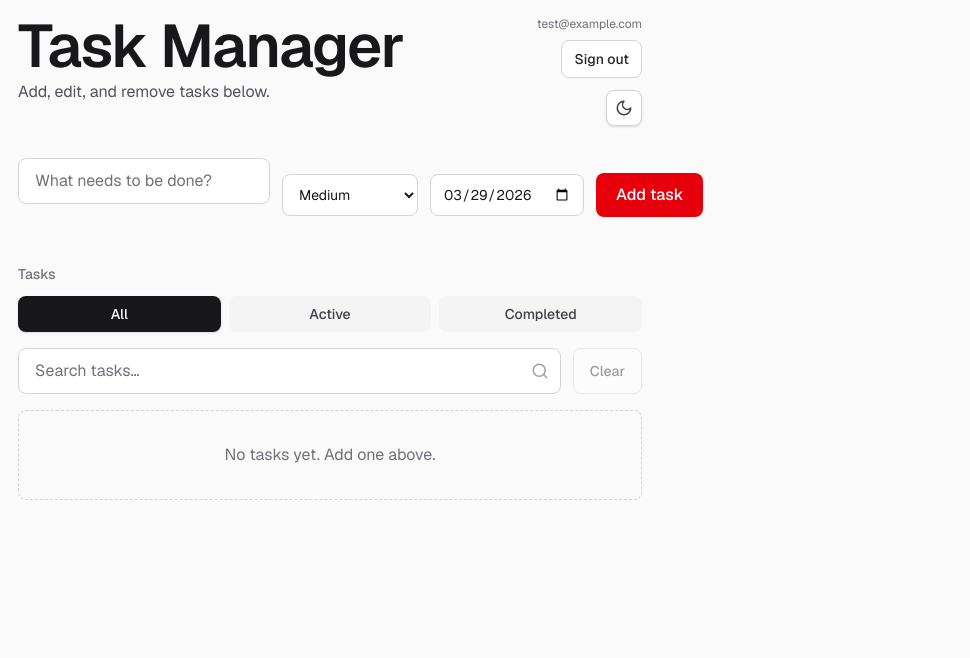
Test case: Home task manager › shows an error toast when creating a task fails
Expected: the heading "Task Manager" is shown, [18,16,403,76]
Step 1. Type "Will not persist" into the field named "Task title" → (144, 181), box [18,158,270,204]
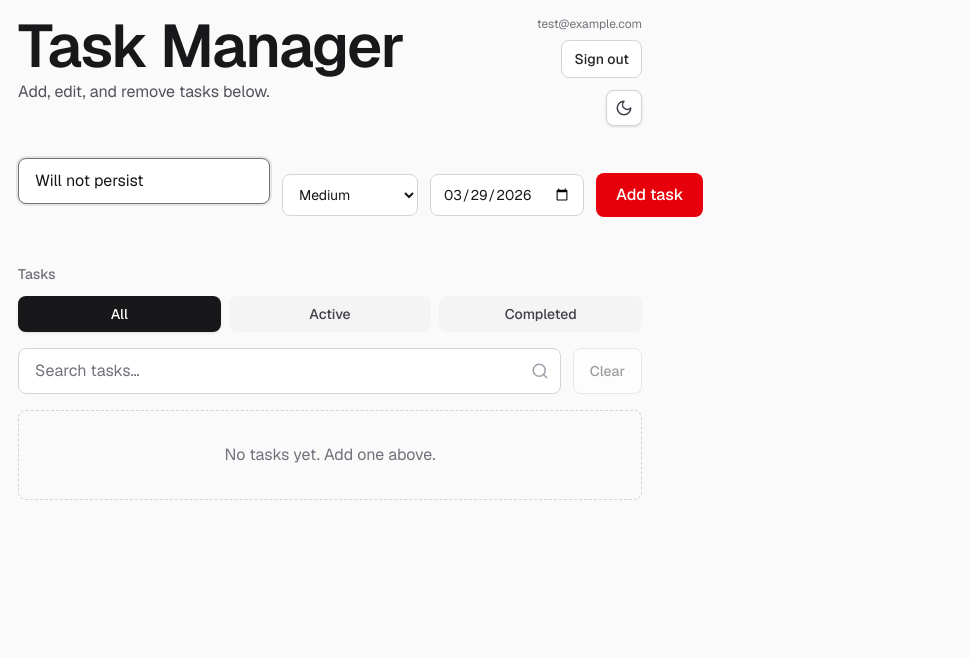
Step 2. Click the button "Add task" → (650, 195), box [596,173,703,217]
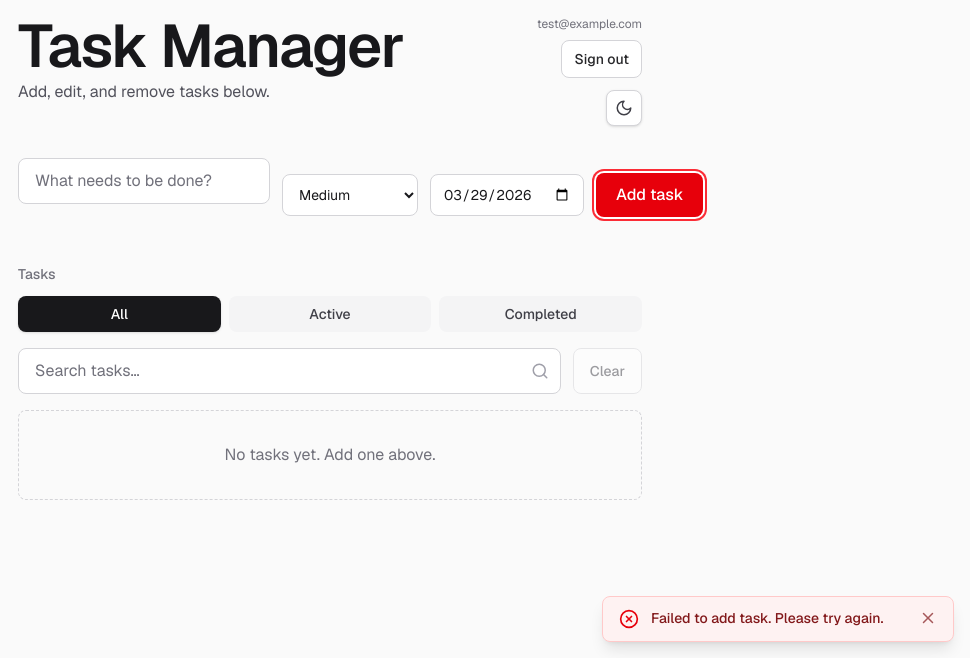
Now the text "Failed to add task. Please try again." is shown, box [651,609,907,628]
